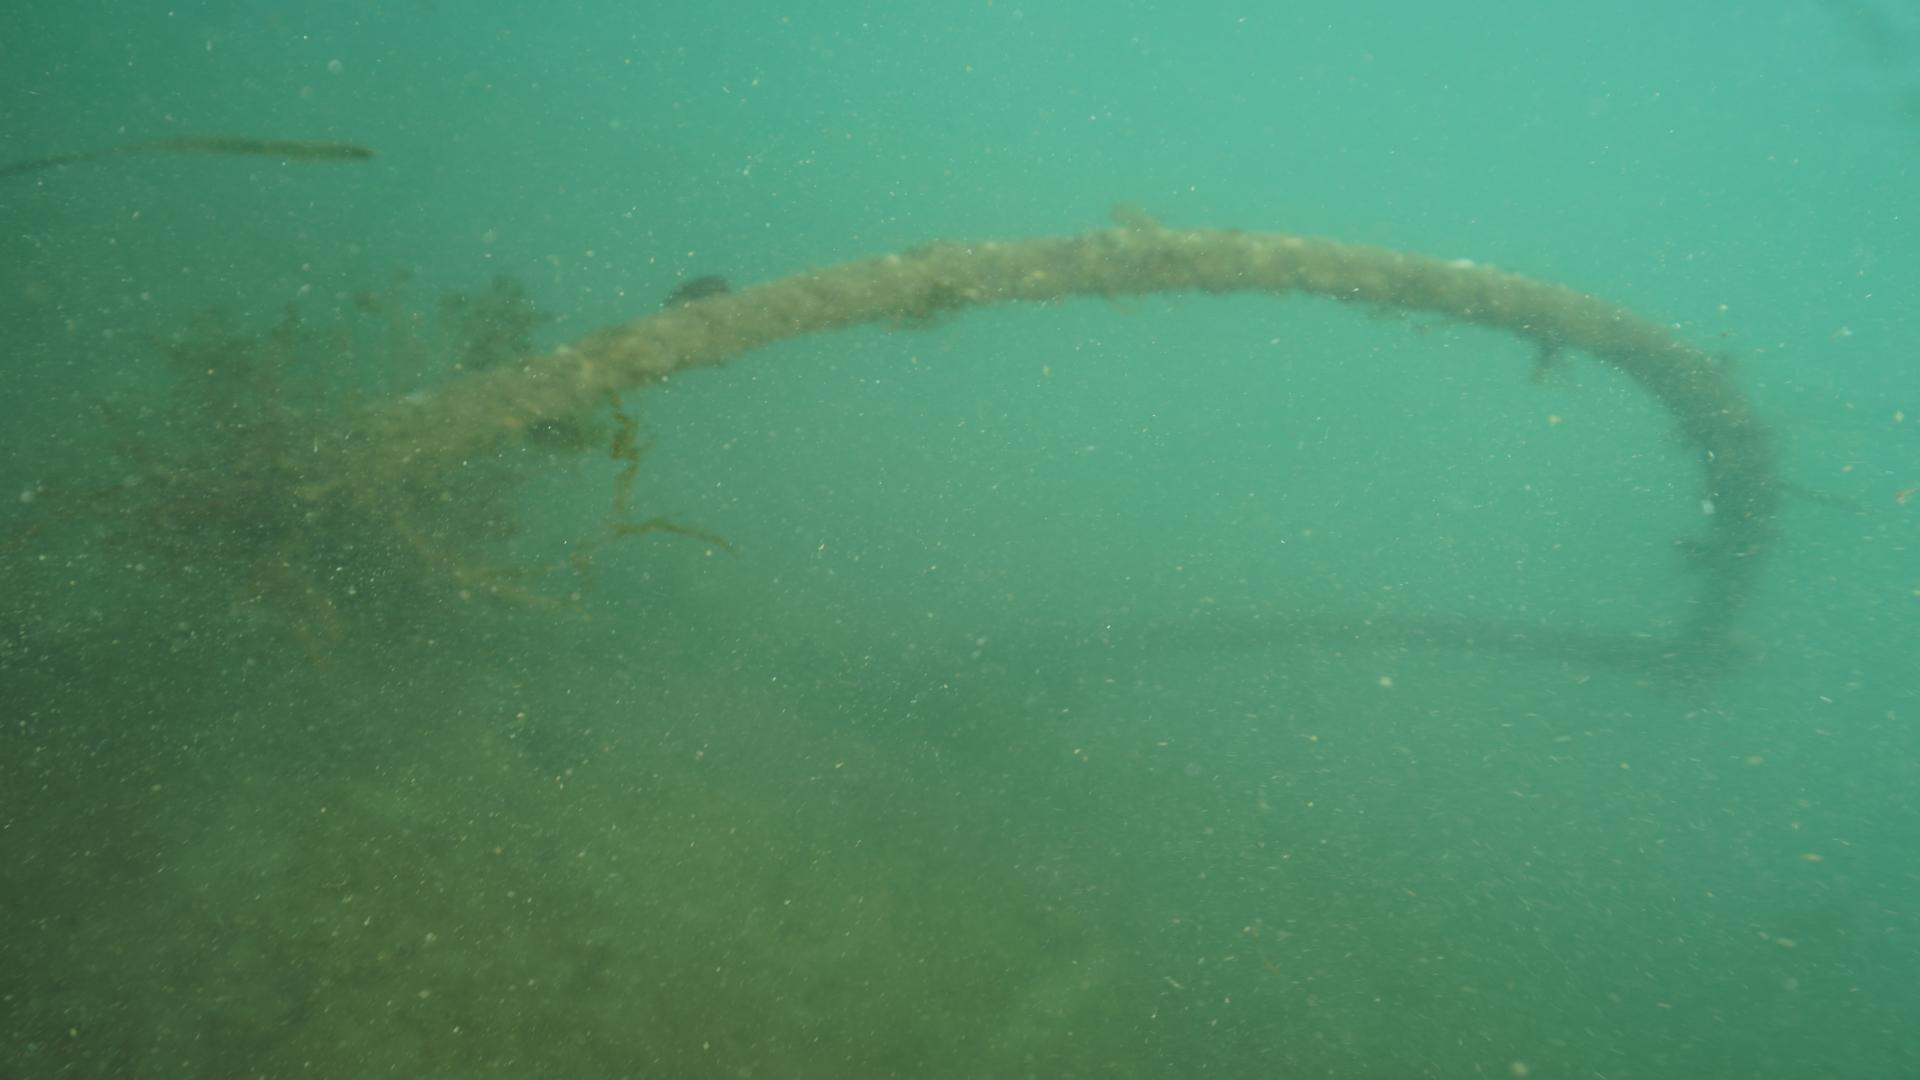rope: (369, 219, 1778, 687)
